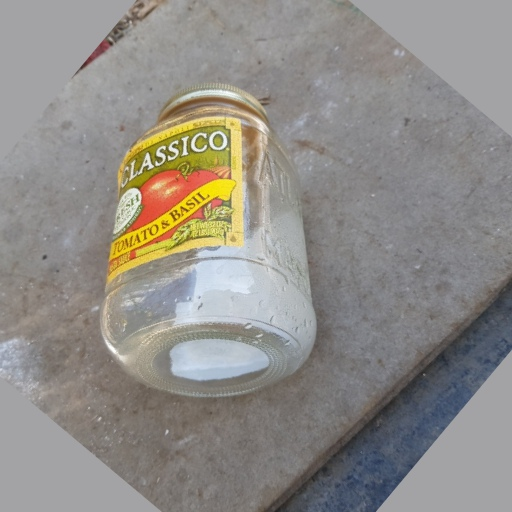Glass_5: (97, 85, 319, 403)
